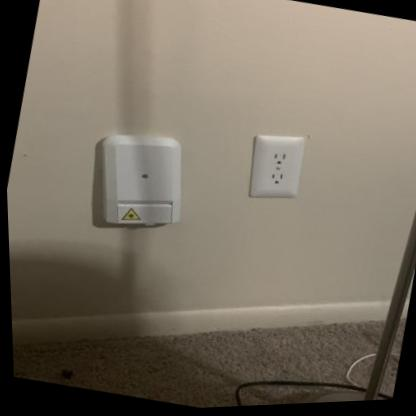OUTLET: (242, 126, 310, 207)
